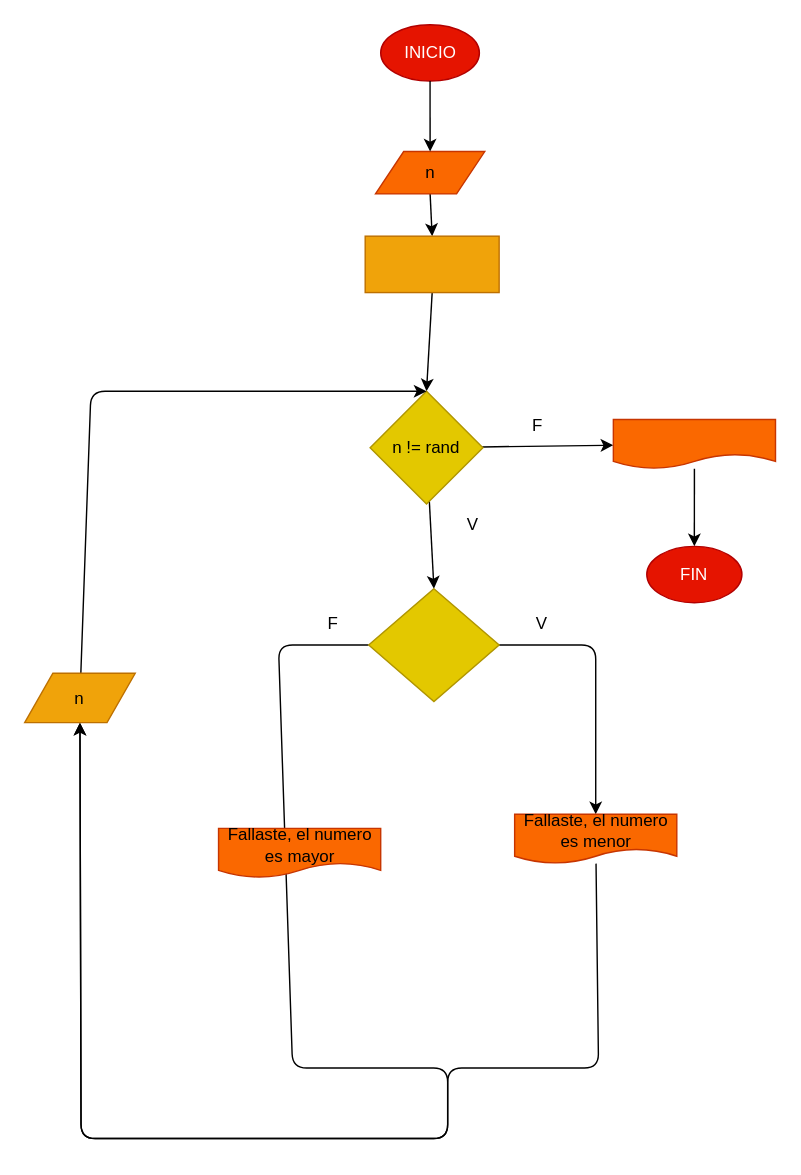
Some shapes in this 801 by 1175 pixel diagram are drawn without their labels. Each missing label, with the centre of its shape:
"acertaste" belongs at pixel 694 443.
"n > rand" belongs at pixel 433 644.
"rand" belongs at pixel 431 264.
